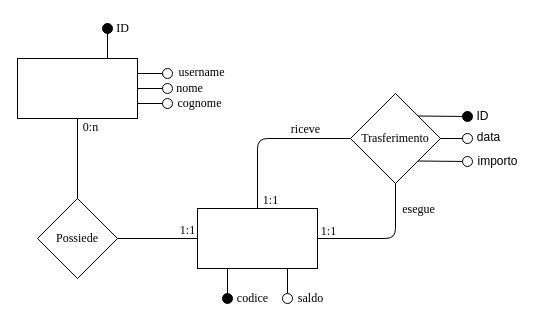
Image size: 545x328. Some labels were removed from this diagram. The shapes that lost their labels are listed below. From the top down, each one's box as (x1, y1, x2, y2) in pixels, then its label:
(16, 58, 138, 118): Utente
(196, 208, 318, 268): Conto
